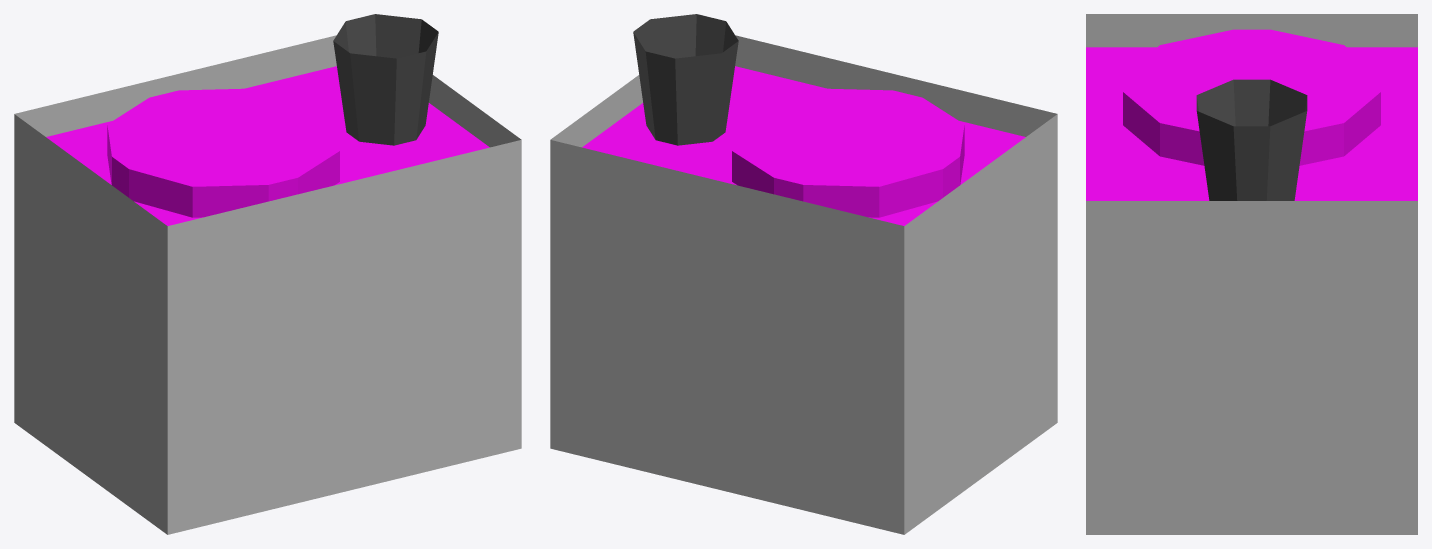
Rendered from potterywheel.obj.
The picture shows the model from 3 angles, left to right: view 1: azimuth 30°, elevation 25°; view 2: azimuth 150°, elevation 25°; view 3: azimuth 270°, elevation 25°; orthographic projection. The views are drawn at different scales.
Visible parts, largest first — view 1: potterywheel_back; view 2: potterywheel_back; view 3: potterywheel_back.
Boxes of the visible parts, <box> form: potterywheel_back: <box>14,14,521,534</box>; potterywheel_back: <box>550,14,1057,534</box>; potterywheel_back: <box>1086,14,1417,534</box>.
Bounding box in the file's own units: 0.96 × 0.96 × 0.72.
